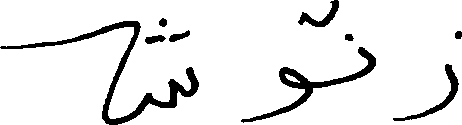ز: (392, 28, 459, 121)
ش: (99, 16, 198, 124)
ن: (309, 0, 376, 97)
و: (240, 60, 311, 123)
